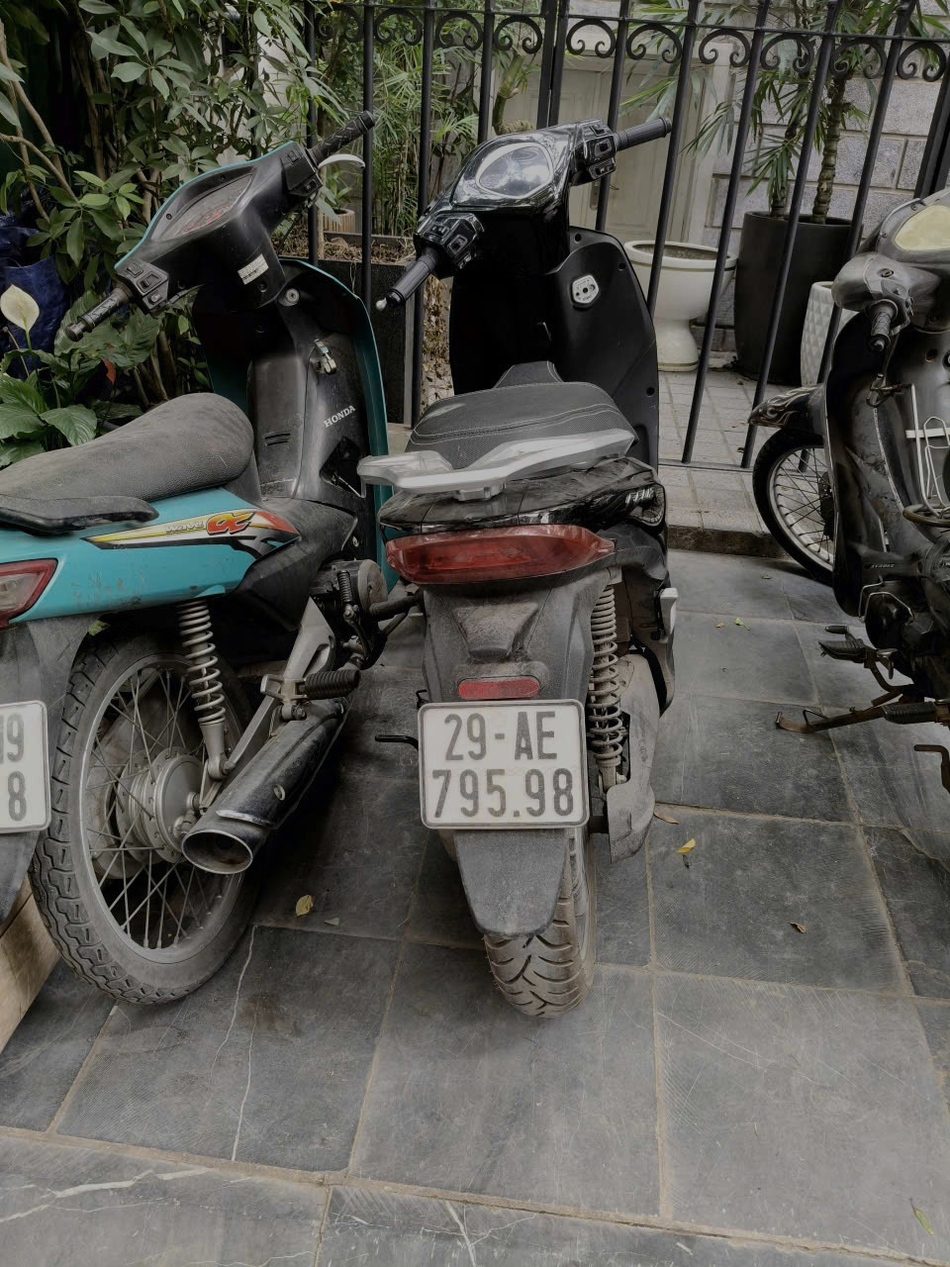plate: (389, 476, 506, 508)
